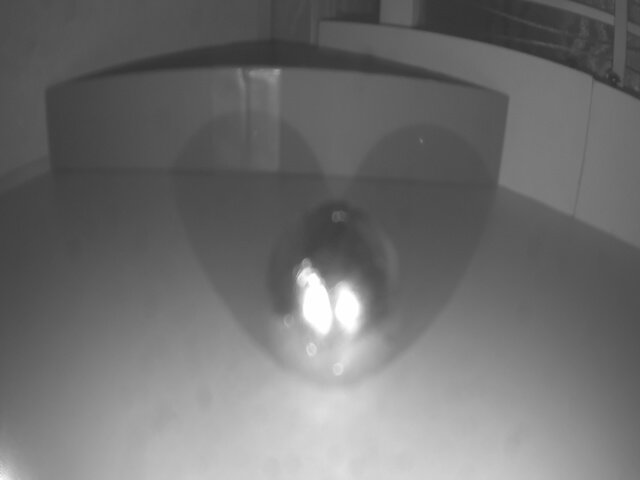Green: (48, 75, 500, 189)
